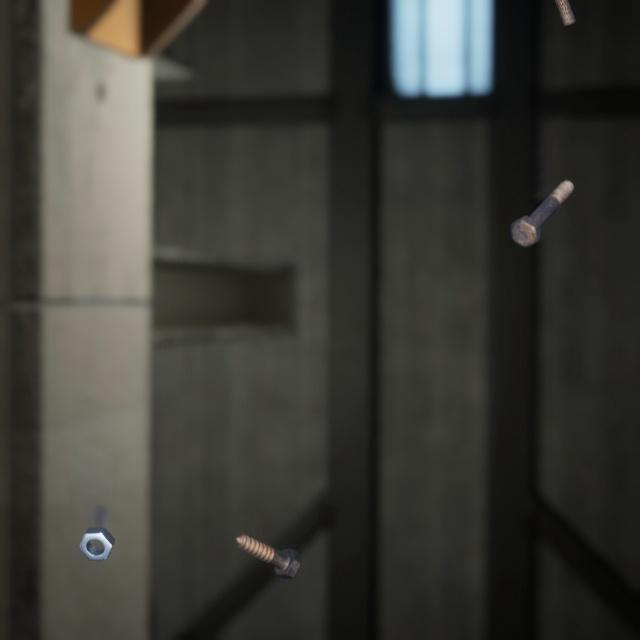bolt: (505, 161, 578, 237), (231, 506, 305, 560), (550, 0, 580, 27)
nut: (74, 500, 120, 543)
